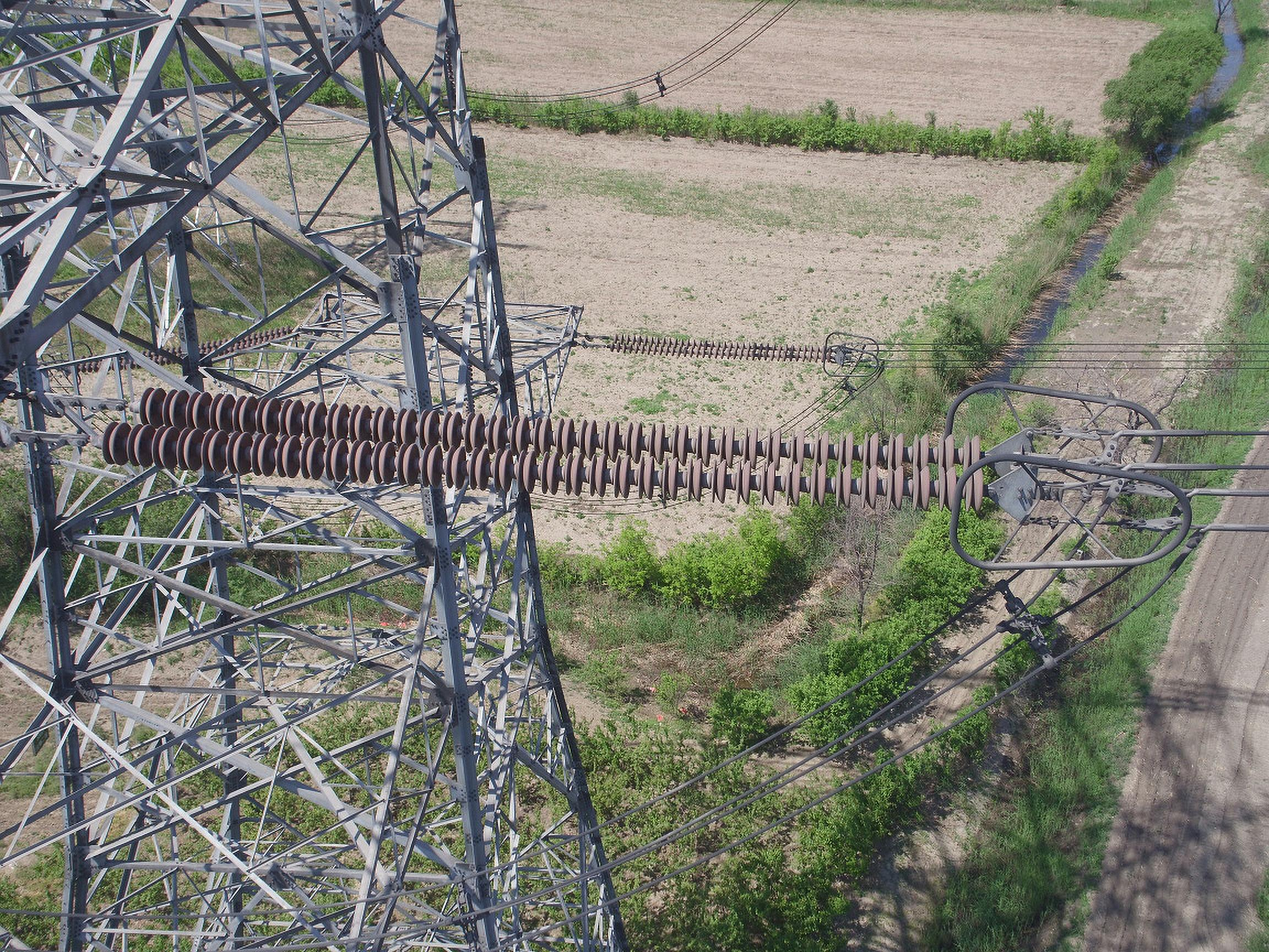insulator: (97, 383, 988, 520), (61, 324, 300, 377), (606, 332, 833, 365)
